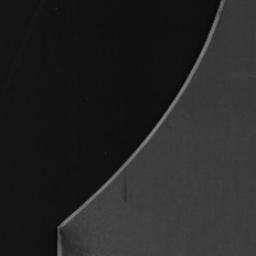Crescent gap: (57, 0, 220, 226)
